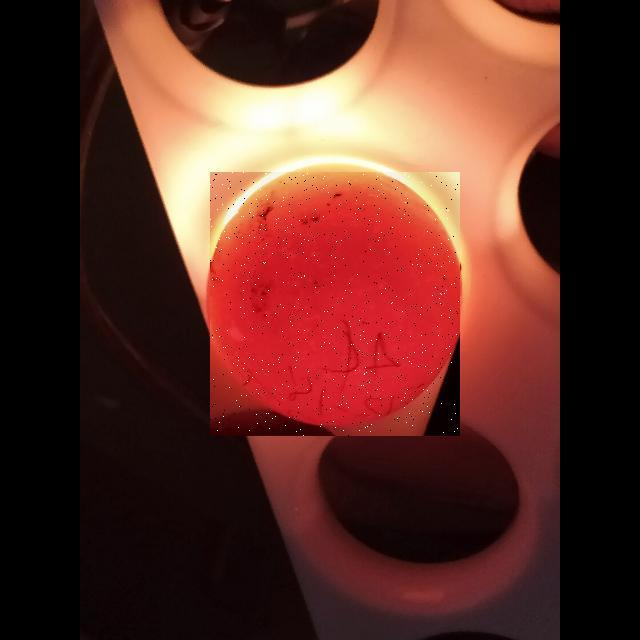Infertile: (210, 172, 460, 436)
